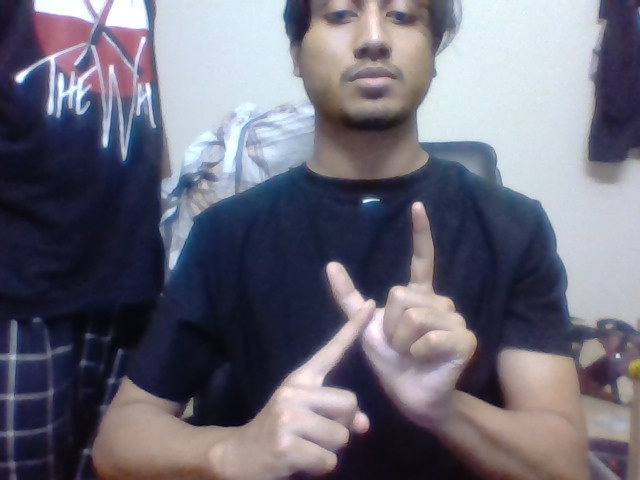Y: (313, 195, 435, 371)
